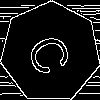C: (25, 27, 81, 79)
